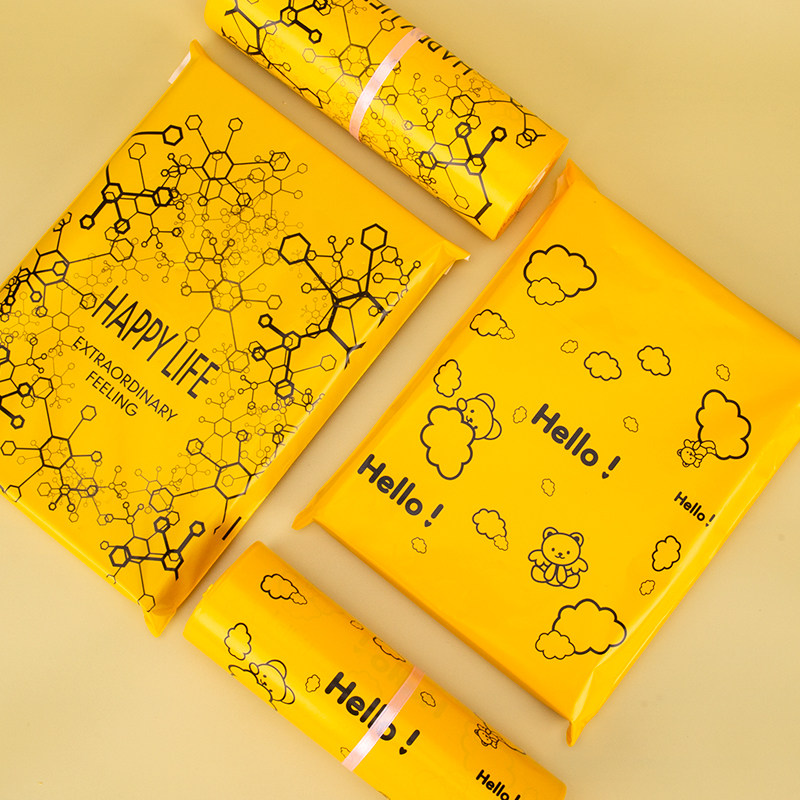塑料袋: (294, 163, 800, 744), (0, 43, 458, 633), (184, 543, 565, 800), (205, 0, 565, 238)
